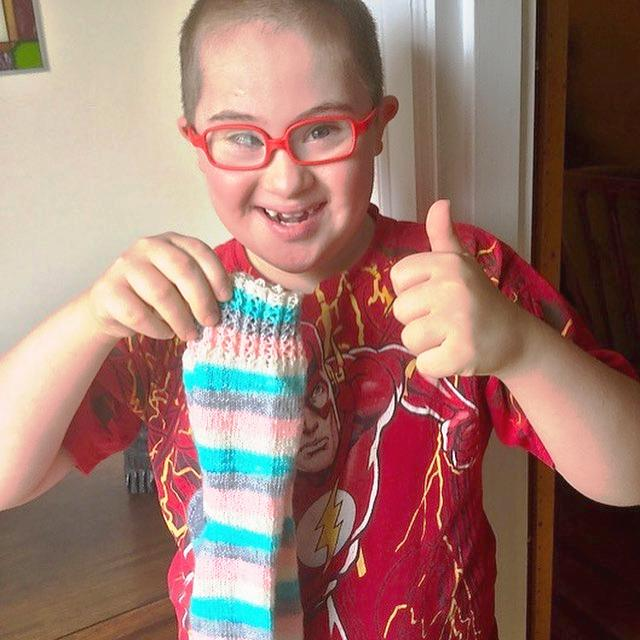thumbs_up: (384, 195, 514, 387), (94, 226, 237, 351)
